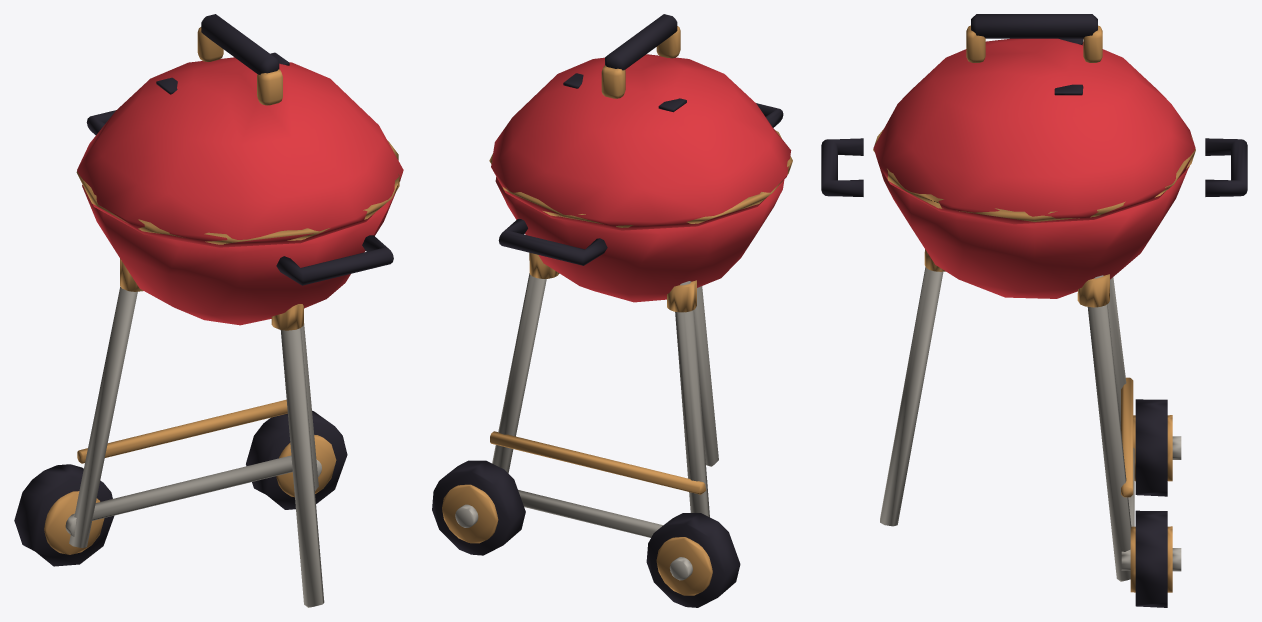
Rendered from prop.bbq.lod1.glb.
The picture shows the model from 3 angles, left to right: view 1: azimuth 30°, elevation 25°; view 2: azimuth 150°, elevation 25°; view 3: azimuth 270°, elevation 25°; orthographic projection. The views are drawn at different scales.
Size of the model in its own units: 0.7399 by 1.2 by 0.8742.
